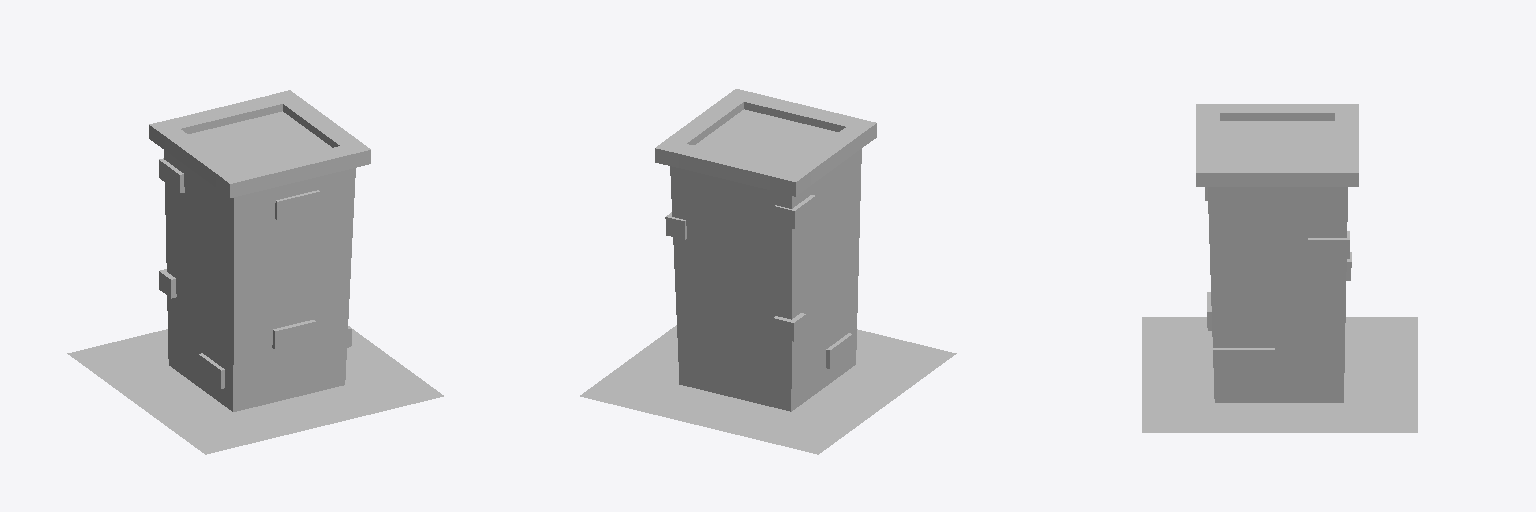
Rendered from building2.obj.
The picture shows the model from 3 angles: view 1: azimuth 30°, elevation 25°; view 2: azimuth 150°, elevation 25°; view 3: azimuth 270°, elevation 25°; orthographic projection.
Visible parts, largest first — view 1: building2_Cube.003; view 2: building2_Cube.003; view 3: building2_Cube.003.
Part boxes in pixels (x1,y1,x2,y2): building2_Cube.003: (67,90,443,454); building2_Cube.003: (580,89,956,454); building2_Cube.003: (1142,104,1417,432).
Size of the model in its own units: 1.55 by 1.47 by 1.55.